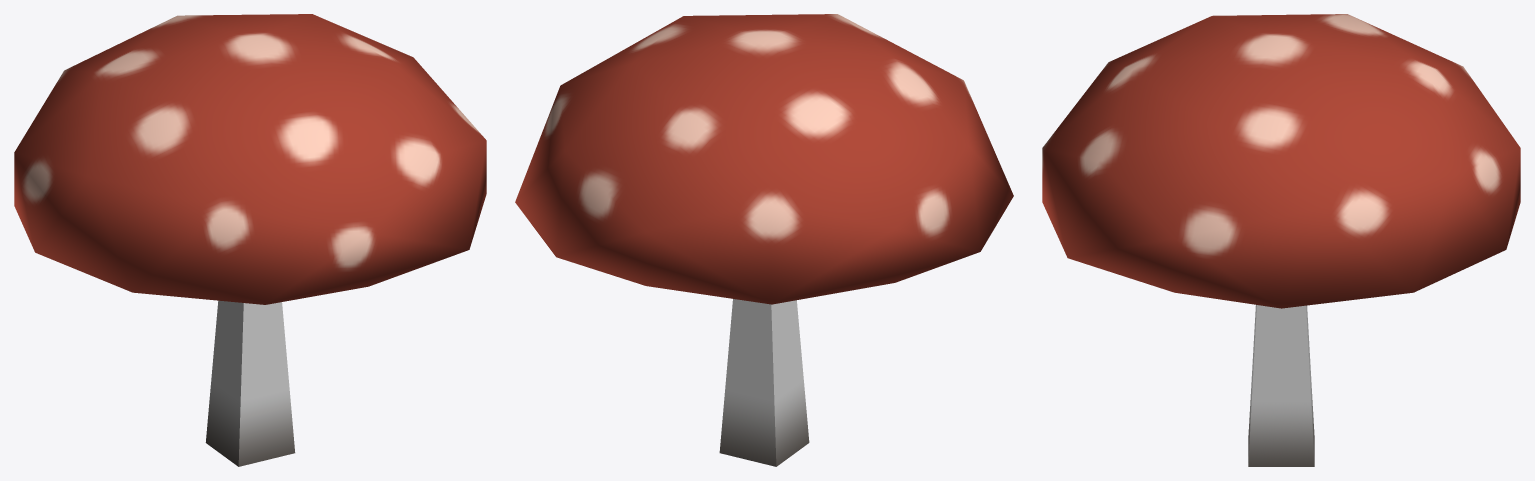
The model's file is Mushroom3.FBX.
3 renders of one model, left to right at view 1: azimuth 30°, elevation 25°; view 2: azimuth 150°, elevation 25°; view 3: azimuth 270°, elevation 25°, orthographic.
Visible parts, largest first — view 1: Mushroom3; view 2: Mushroom3; view 3: Mushroom3.
Boxes of the visible parts, x1,y1,x2,y2 form: Mushroom3: (14, 14, 486, 466); Mushroom3: (515, 14, 1013, 466); Mushroom3: (1042, 14, 1520, 466).
Bounding box in the file's own units: 17.75 × 16.08 × 16.88.
